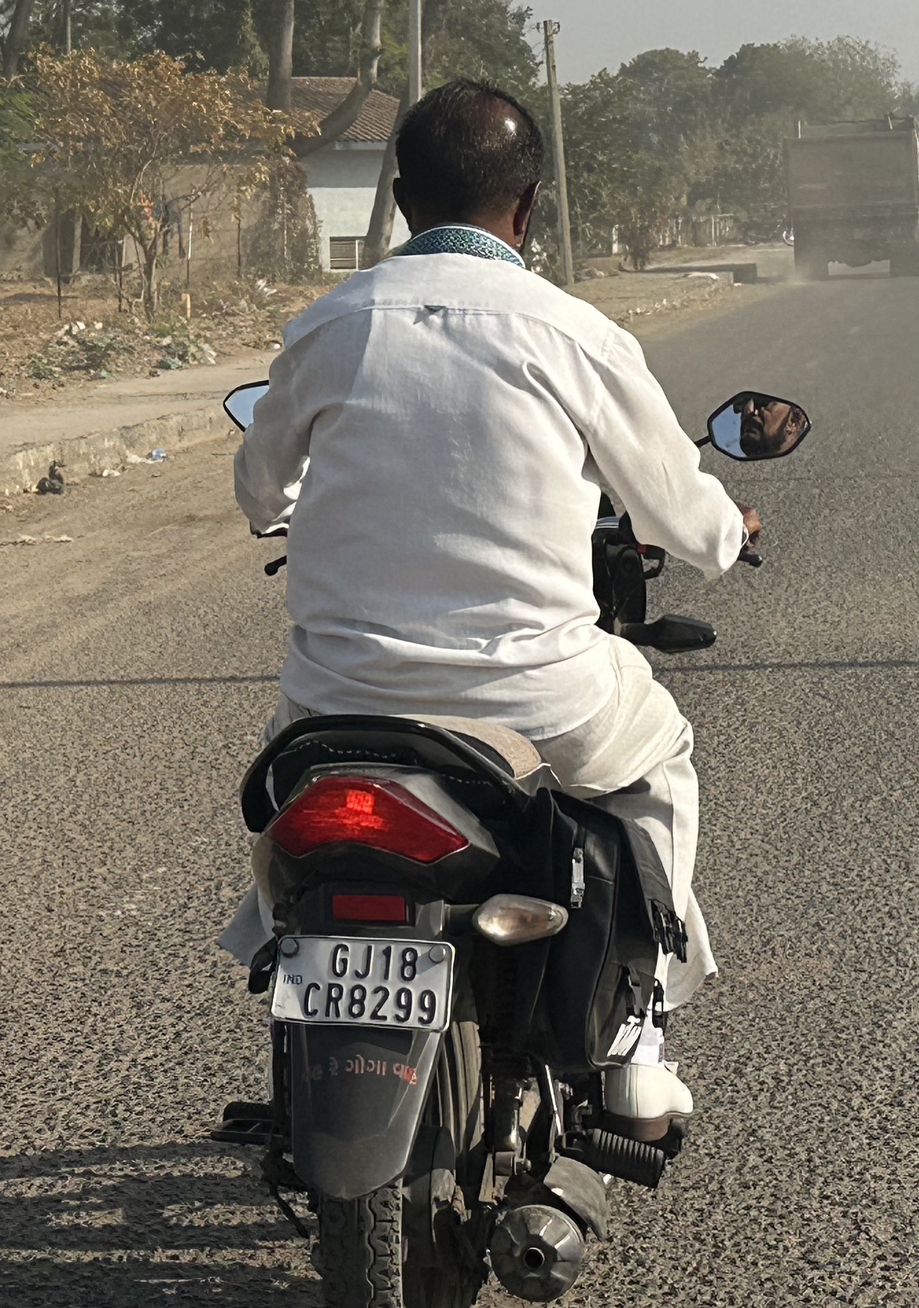BikeWithRider: (180, 62, 832, 1308)
NoHelmet: (367, 69, 560, 275)
